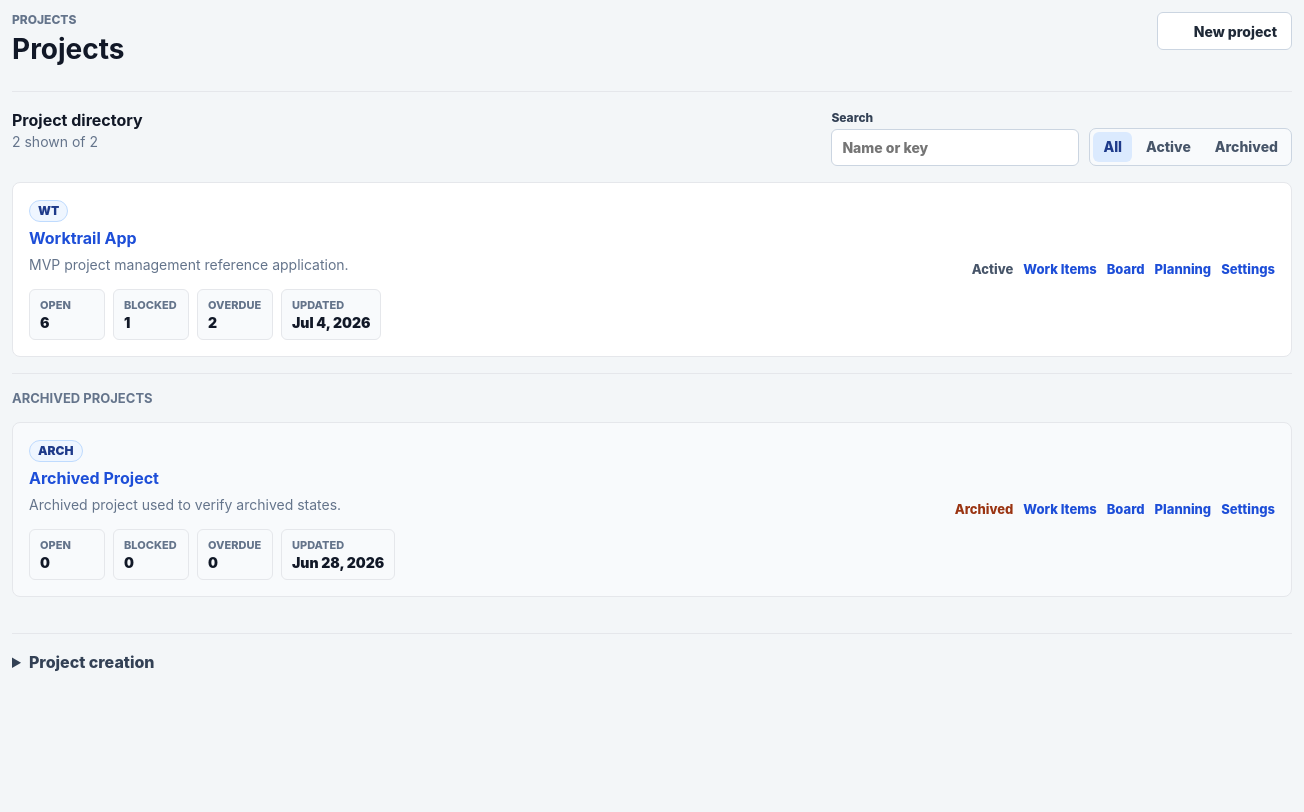
Scenario: ProjectListPageComponent › renders project navigation summaries and filters archived projects
Click the button "Archived": (1246, 147) [1205, 132, 1288, 162]
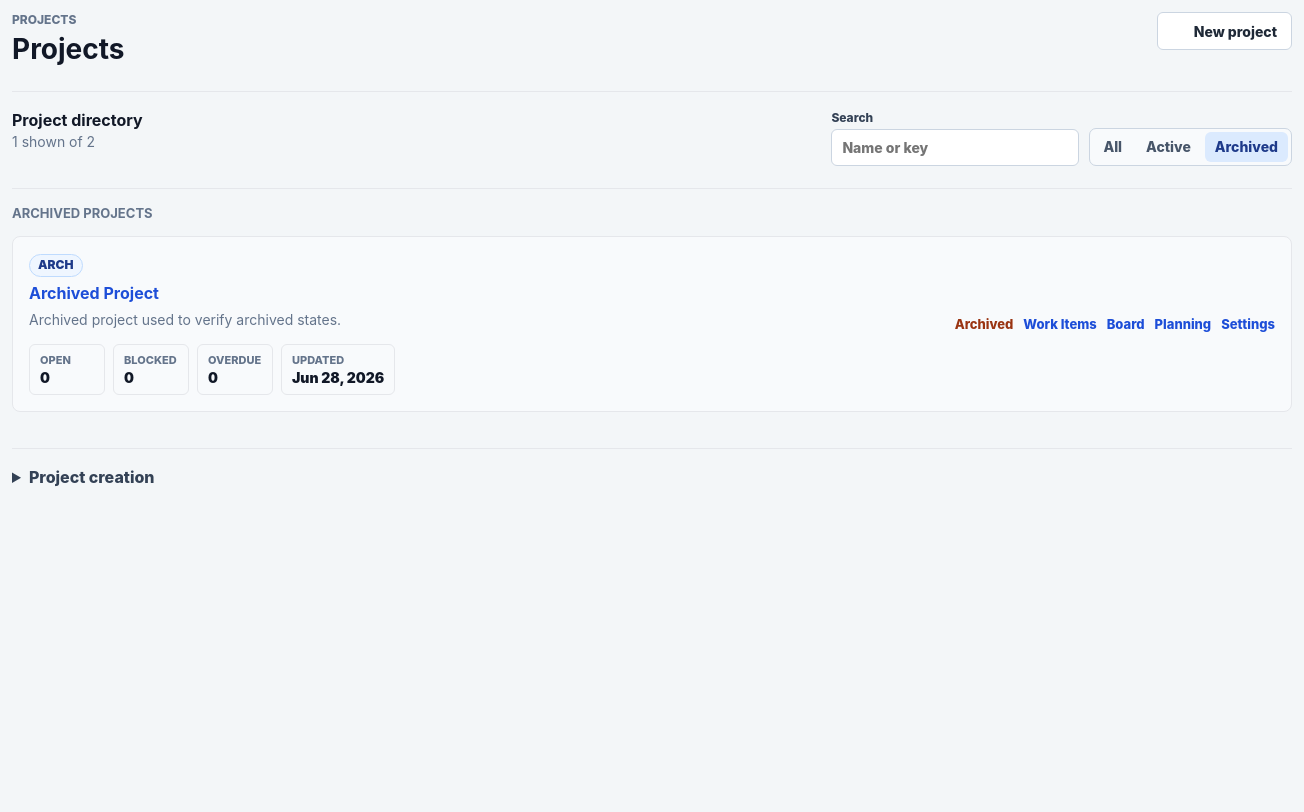
Check: the text "Archived project" is shown, box [12, 205, 152, 221]
Check: the text "Worktrail App" is gone
